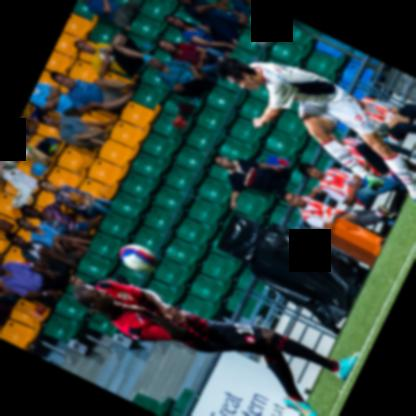handbag: (35, 136, 62, 156)
